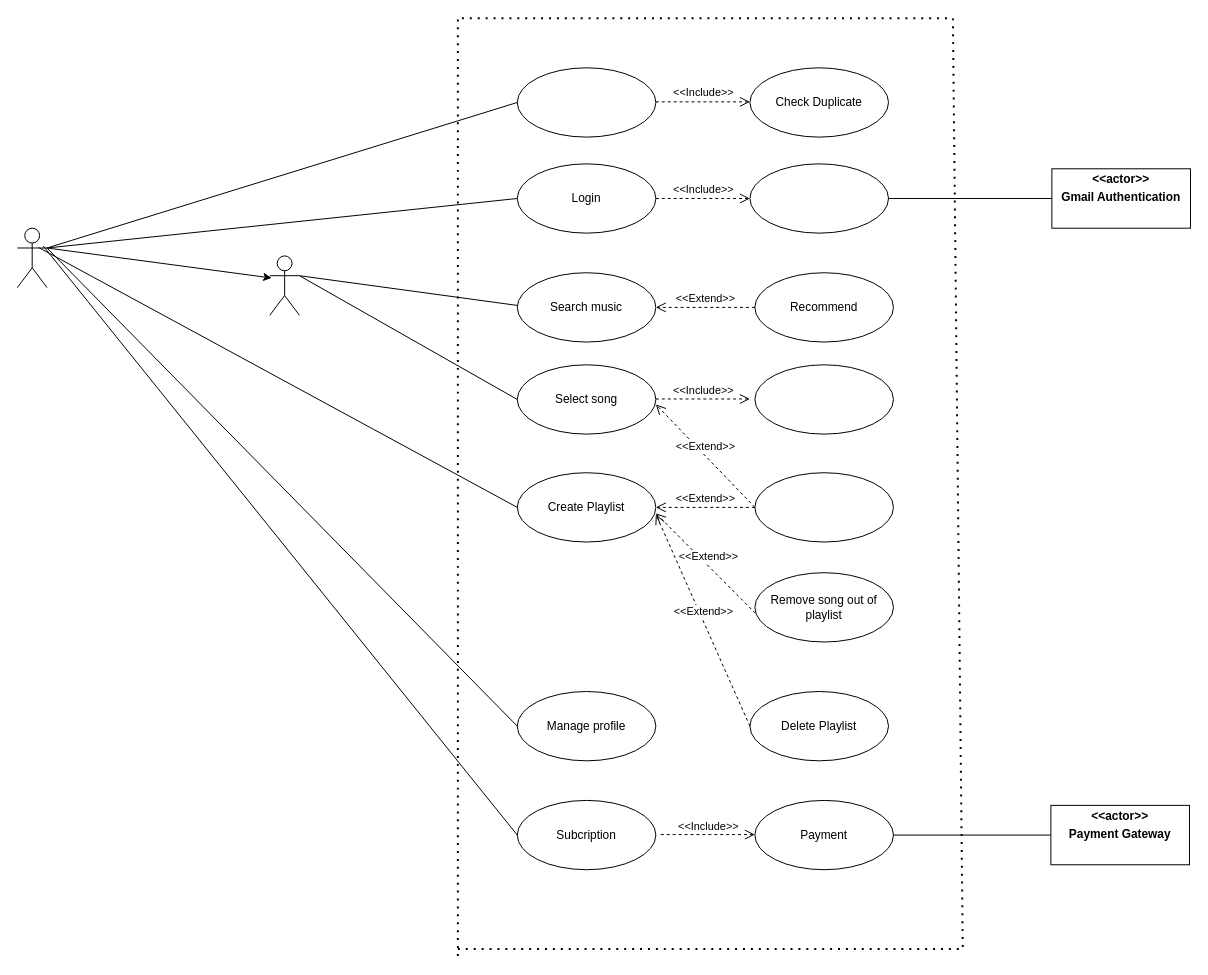
This 1208x975 diagram has some shape labels left out. Each missing label, with the centre of its shape:
"Add song to playlist" goes at point 823,507.
"Authentication" goes at point 819,198.
"Guess" goes at point 284,285.
"Play song" goes at point 823,399.
"Register" goes at point 586,102.
"User" goes at point 31,257.
